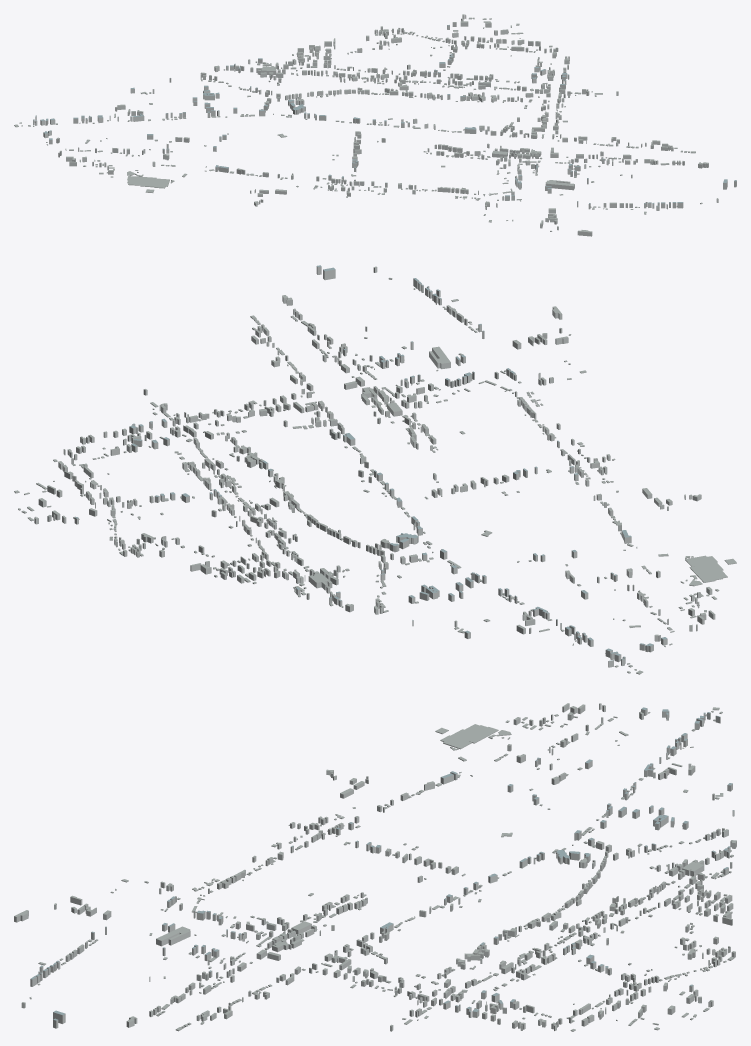
Rendered from far.glb.
The picture shows the model from 3 angles, top to bottom: view 1: azimuth 30°, elevation 25°; view 2: azimuth 150°, elevation 25°; view 3: azimuth 270°, elevation 25°; orthographic projection. The views are drawn at different scales.
Size of the model in its own units: 2091 by 27 by 1974.
